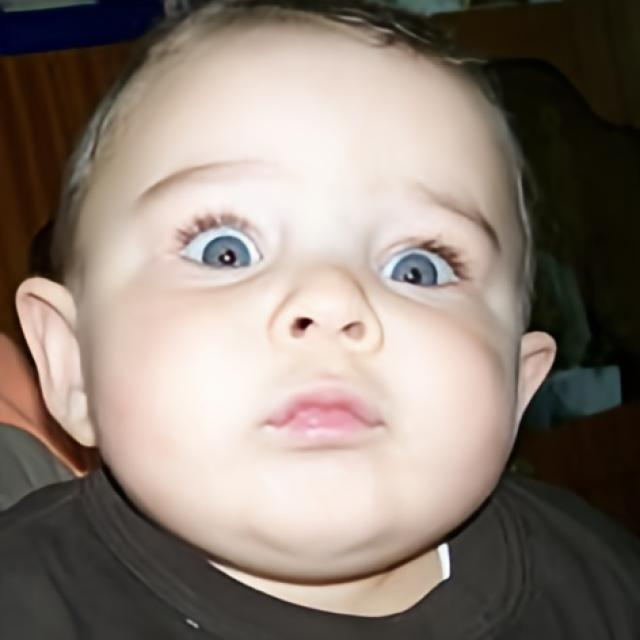fear: (82, 2, 534, 586)
